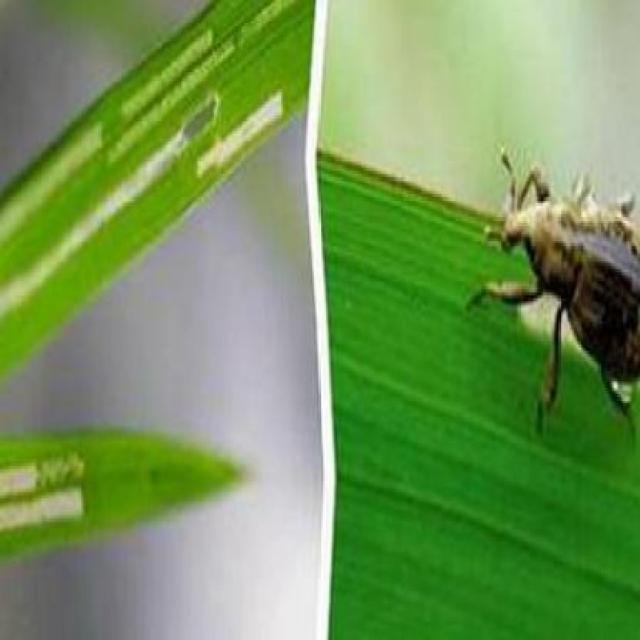rice-bug: (486, 162, 637, 418)
